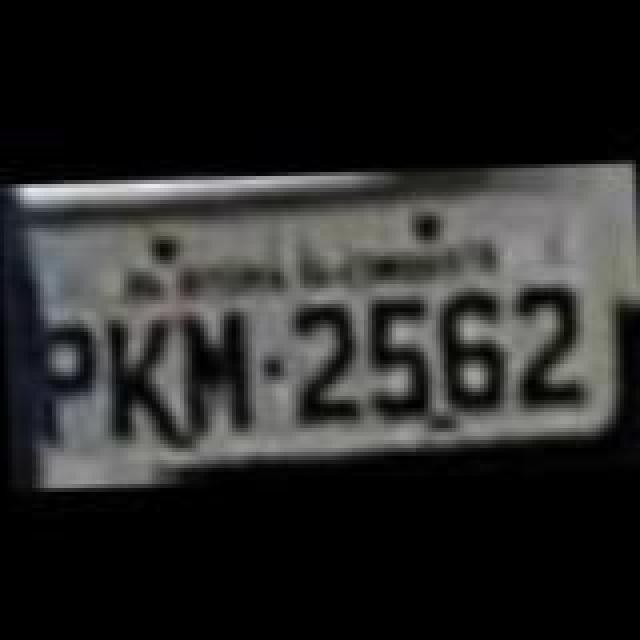2: (506, 276, 586, 408), (286, 302, 358, 418)
5: (364, 290, 432, 418)
6: (428, 284, 504, 412)
K: (102, 310, 174, 446)
M: (178, 304, 258, 440)
P: (30, 316, 106, 444)
